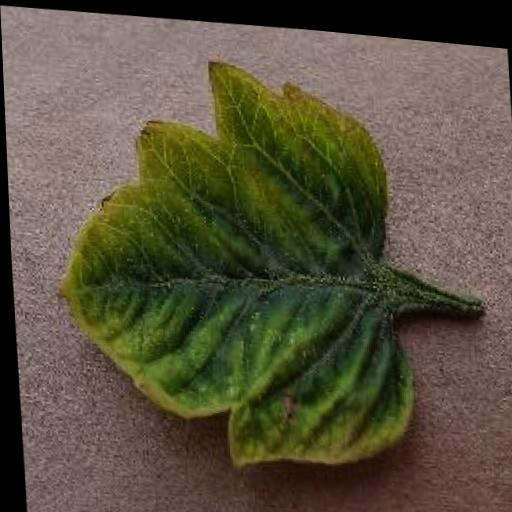Yellow Leaf Curl Virus: (36, 35, 423, 481)
